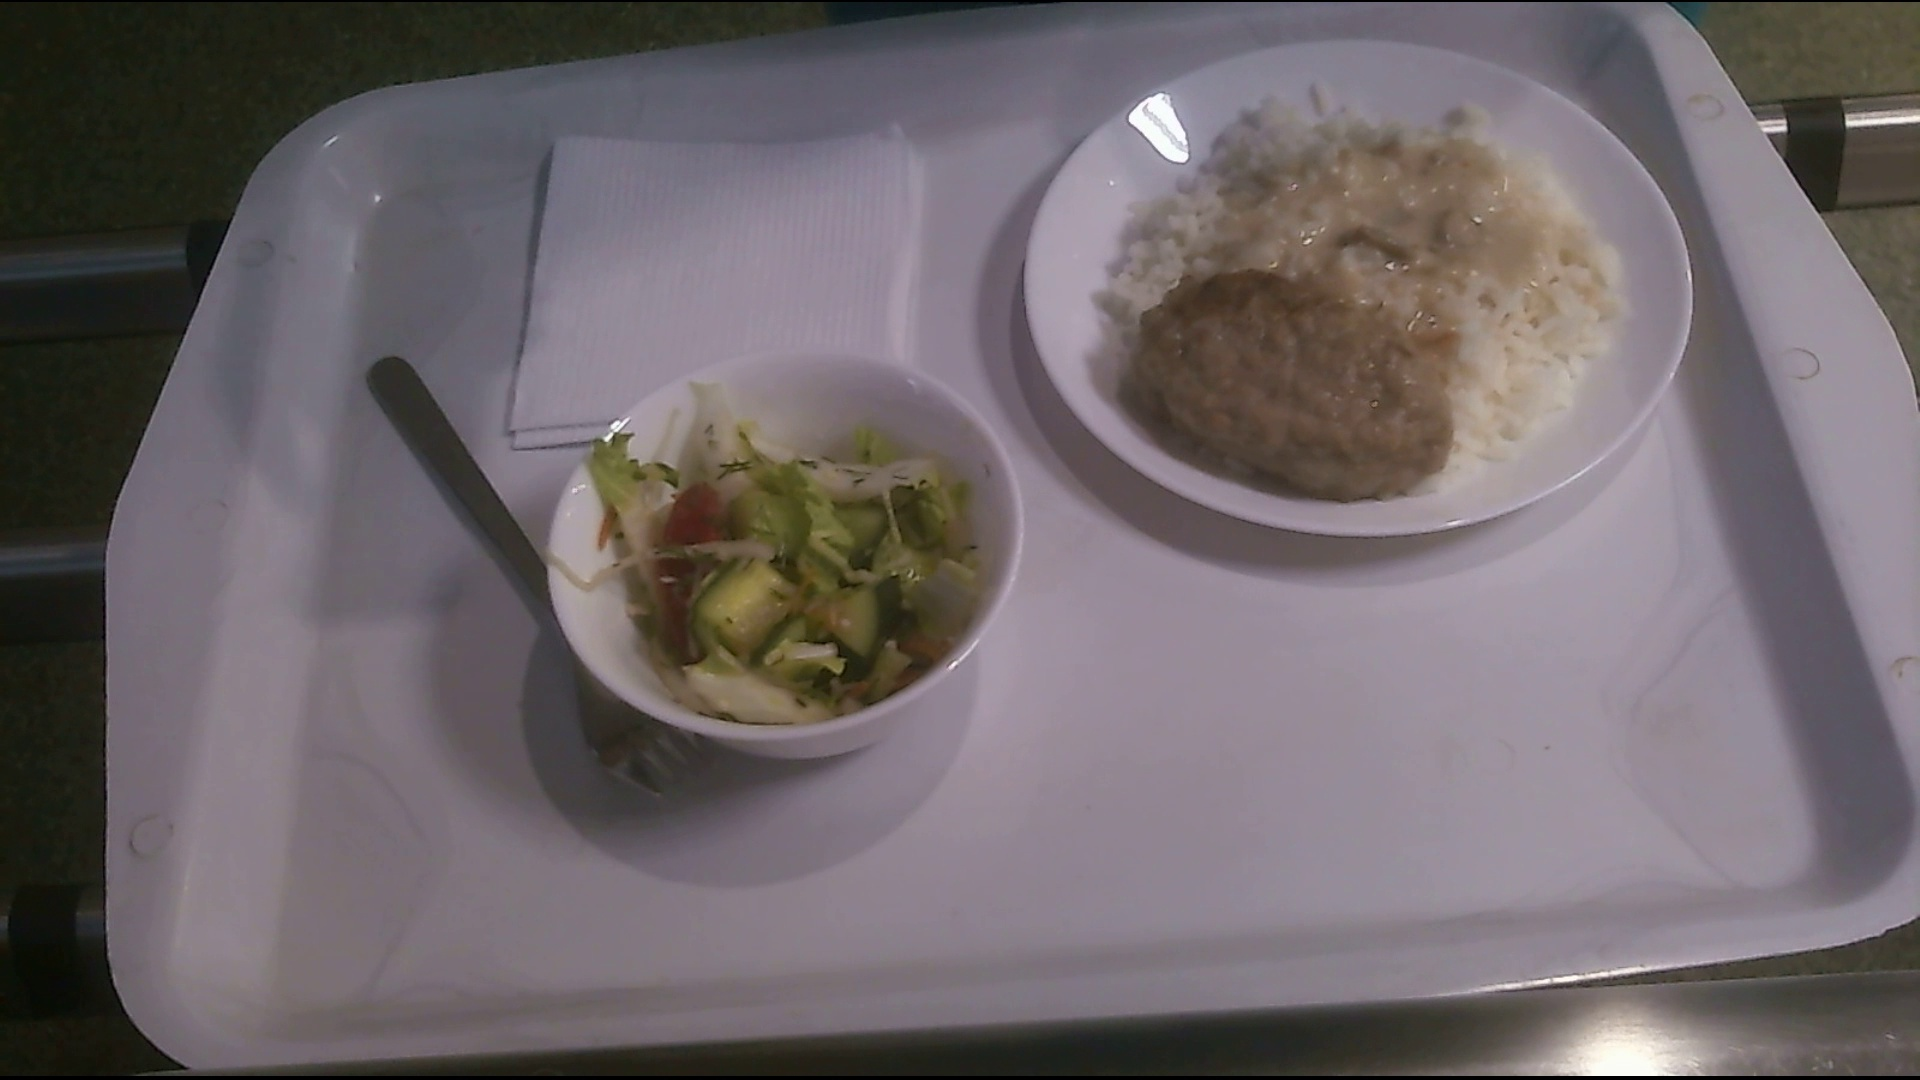bowl: (556, 360, 1029, 752)
cutlery: (367, 352, 690, 795)
plate: (1014, 46, 1698, 556)
